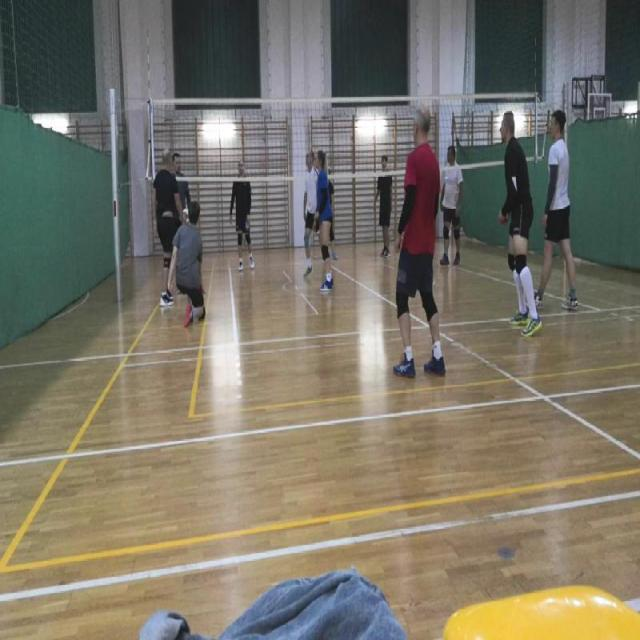volleyball: (182, 208, 189, 224)
